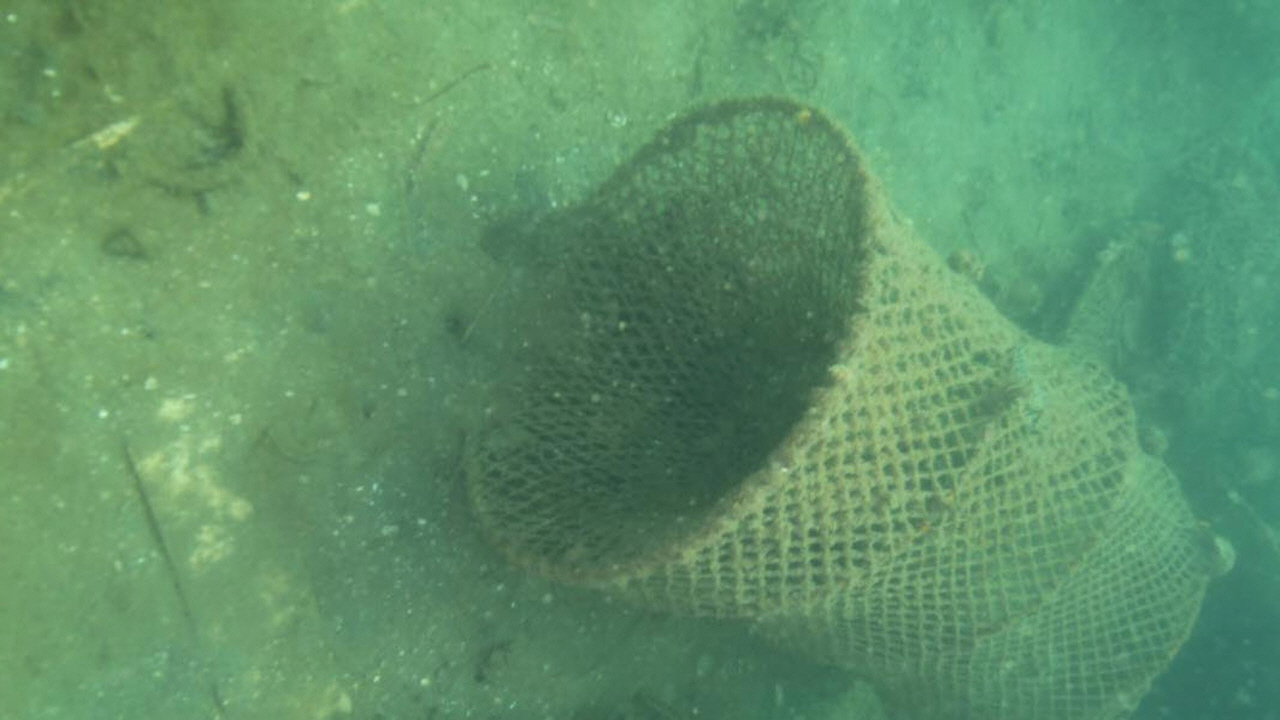spring fish trap: (459, 93, 1210, 719)
